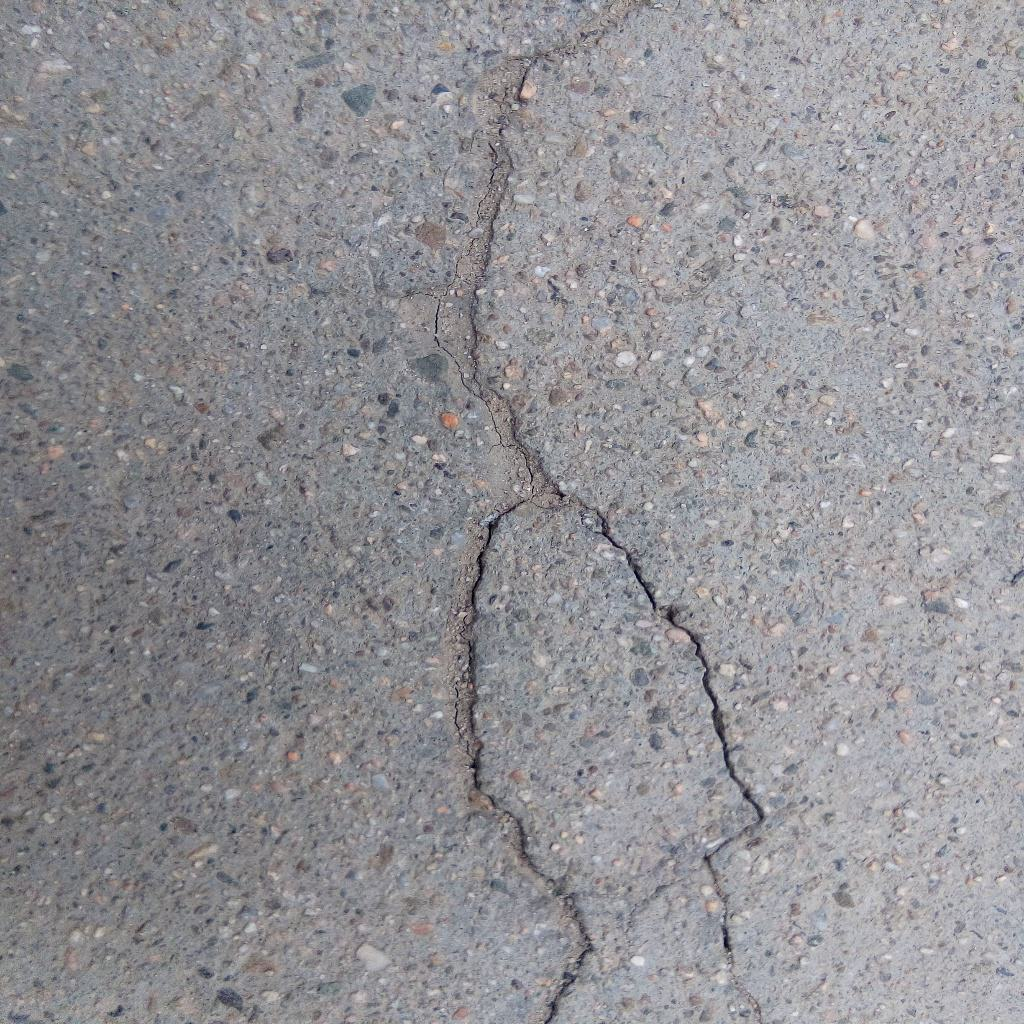Crack: (543, 490, 765, 1024), (467, 1, 656, 491), (456, 491, 594, 1024)
